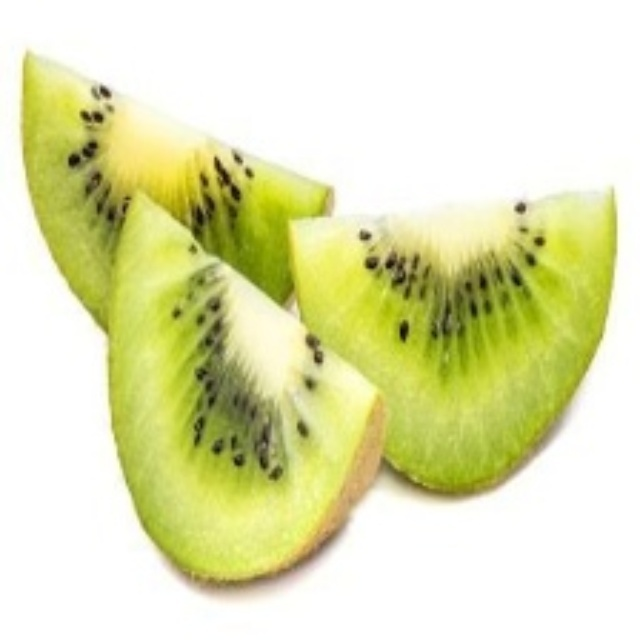kiwi: (90, 203, 390, 608), (289, 199, 623, 502), (25, 51, 331, 331)
